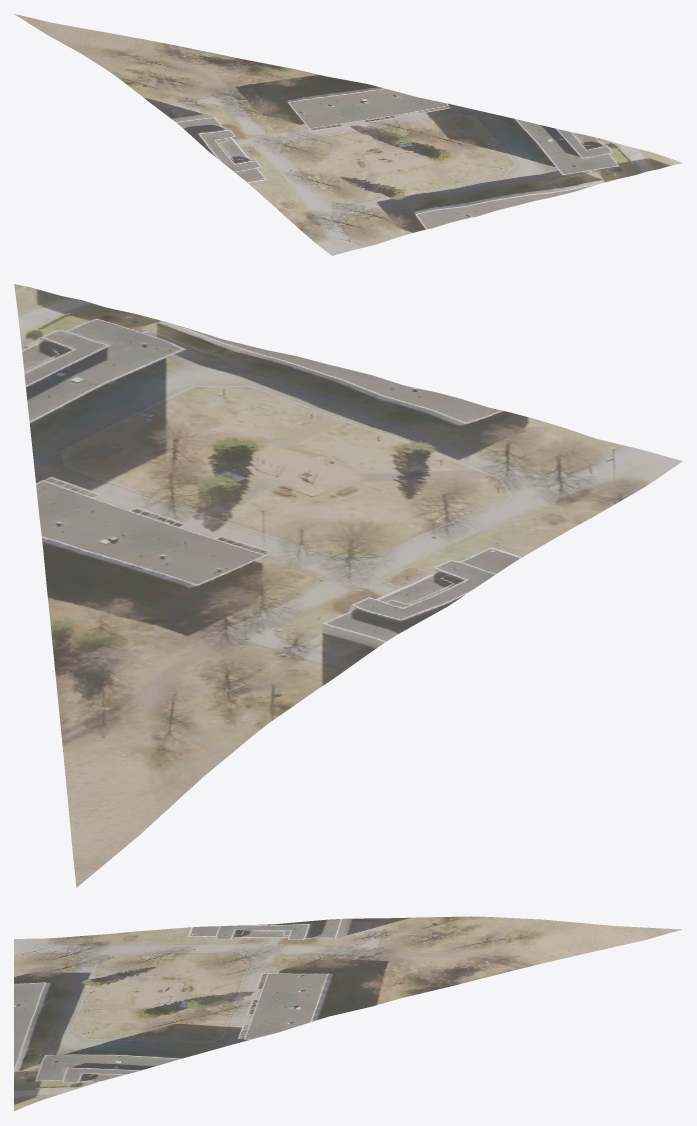
File: CM_Terrain_24493326_6817541.fbx
3 views of the same model, one above another, from view 1: azimuth 30°, elevation 25°; view 2: azimuth 150°, elevation 25°; view 3: azimuth 270°, elevation 25° (orthographic). The views are drawn at different scales.
Parts seen in each view (by area): view 1: CM_Terrain_24493326_6817541_LOD0; view 2: CM_Terrain_24493326_6817541_LOD0; view 3: CM_Terrain_24493326_6817541_LOD0.
Part boxes in pixels (left/top/right/bottom): CM_Terrain_24493326_6817541_LOD0: left=14, top=14, right=682, bottom=255; CM_Terrain_24493326_6817541_LOD0: left=14, top=284, right=682, bottom=887; CM_Terrain_24493326_6817541_LOD0: left=14, top=916, right=681, bottom=1111.
Size of what is drawn, in the model's own units: 89.69 by 5.24 by 141.
